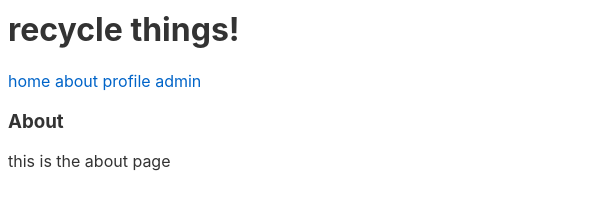
Test: App.svelte › Routing: › GIVEN: The user is not logged in, › WHEN: Nav bar links lead to non-protected routes, › THEN: the user clicks profile and is taken to login-page
Step 1. Click the link "profile" → x=127, y=81, box [102,71,151,91]
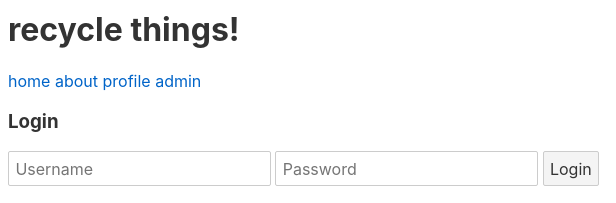
Check: the element with test id "login-page" is shown, box [8,110,599,186]
